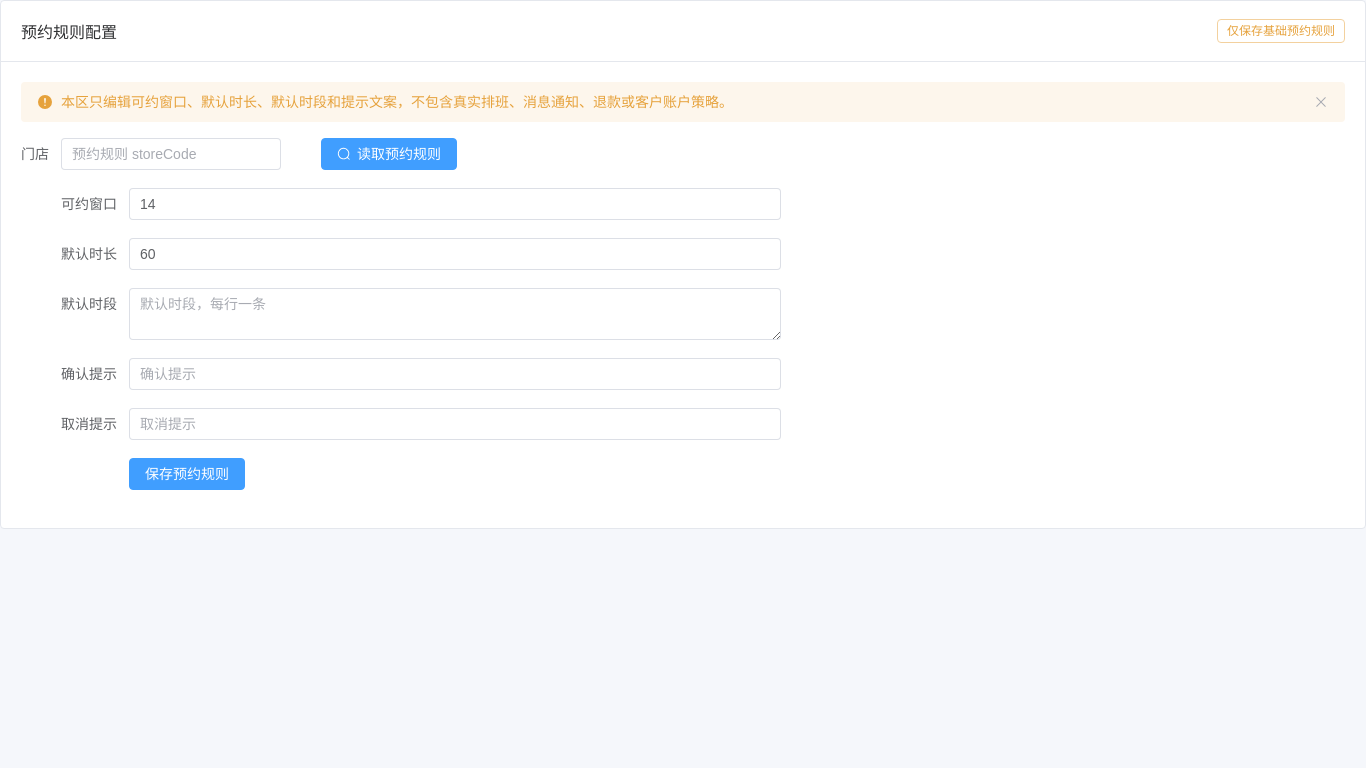
Test: StoreAppointmentRulesPanel › keeps appointment rules draft when save fails
Type "store-config-001" into the field with placeholder "预约规则 storeCode". click: (171, 154)
box: left=72, top=139, right=270, bottom=169
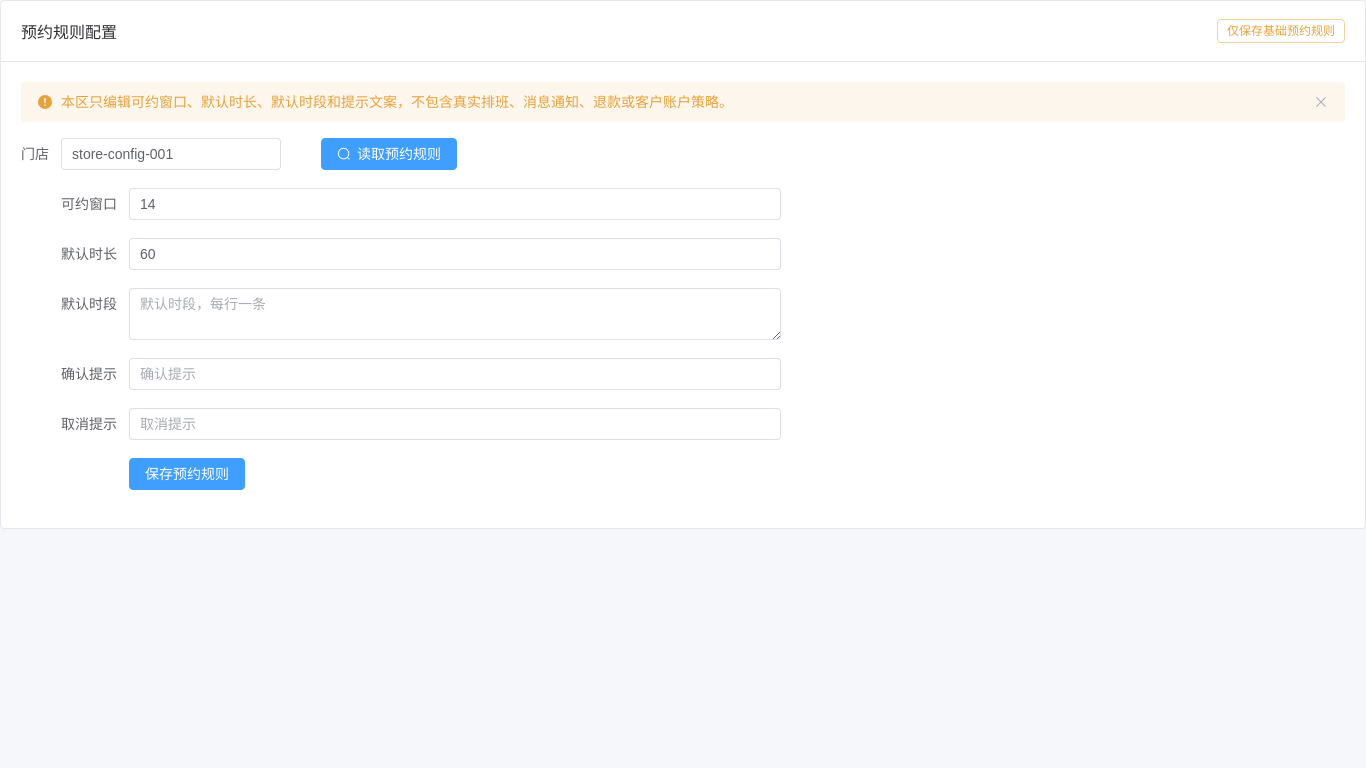
Click the button "读取预约规则". click: (389, 154)
box: left=321, top=138, right=457, bottom=170
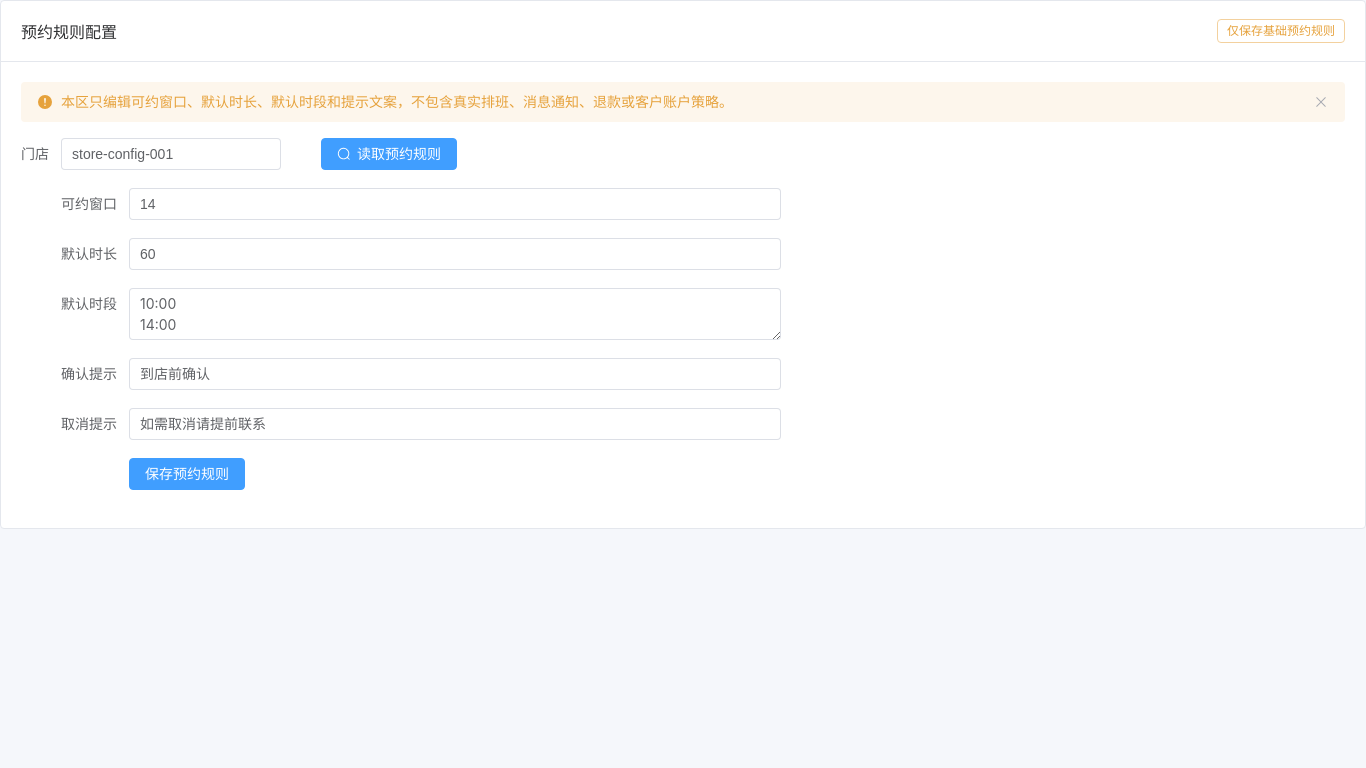
Replace the text in the field with placeholder "确认提示" with "失败后仍保留规则". click: (455, 374)
box: left=140, top=359, right=770, bottom=389
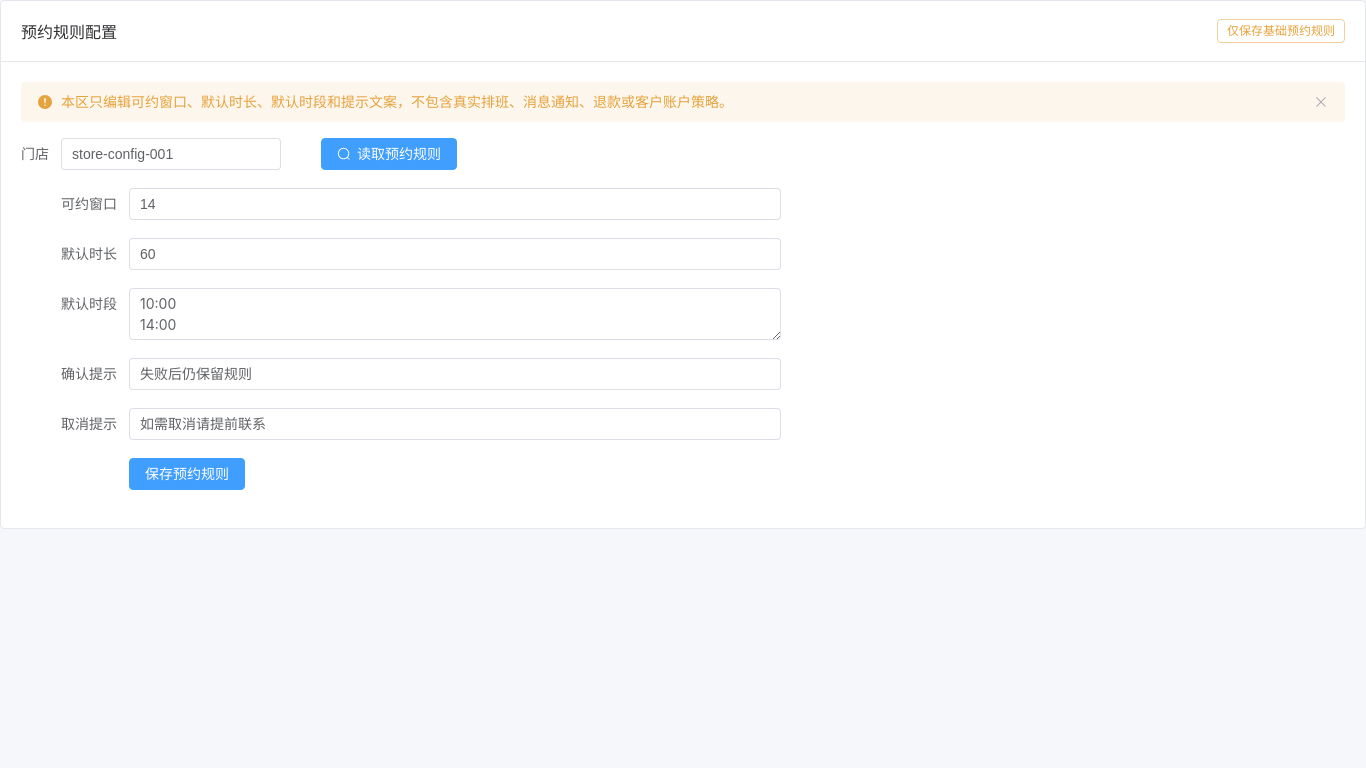
Click the button "保存预约规则". click: (187, 474)
box: left=129, top=458, right=245, bottom=490
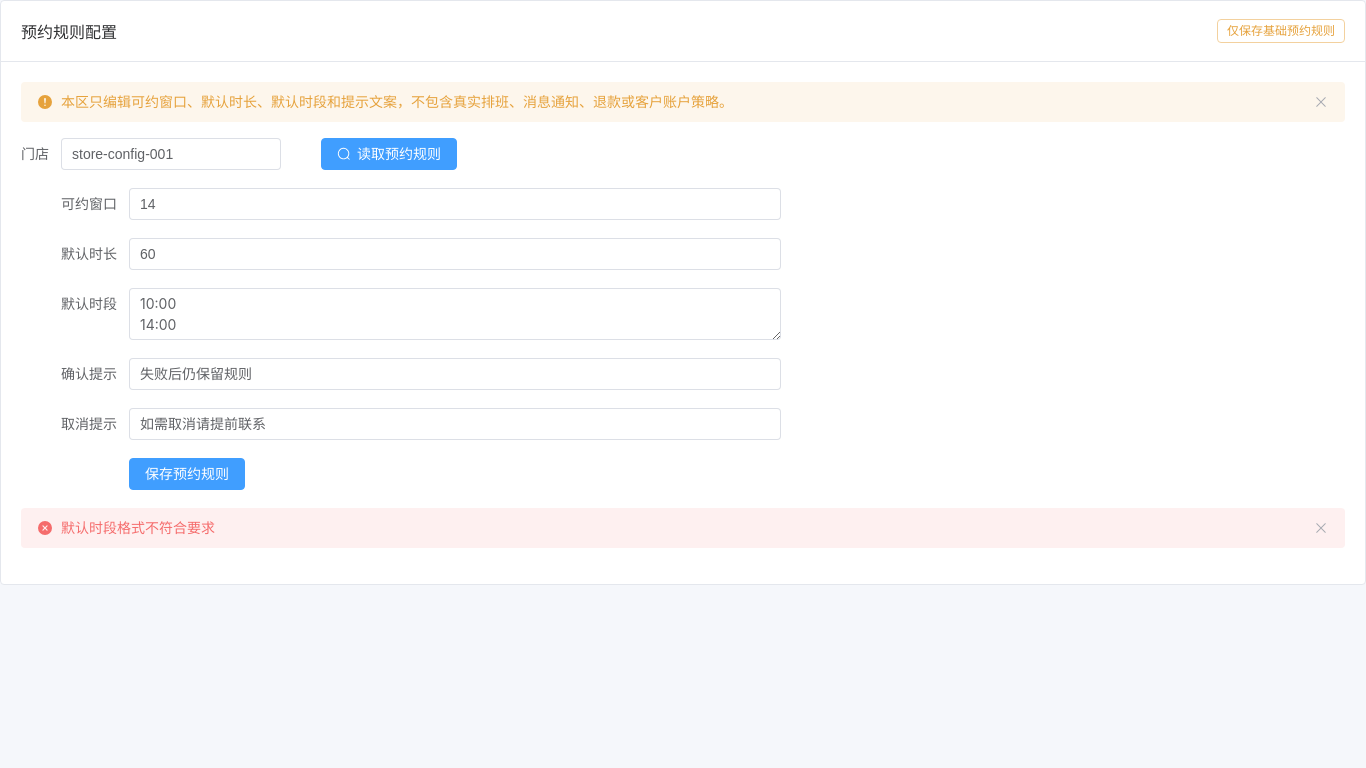
Check: the text "默认时段格式不符合要求" is shown, box left=61, top=516, right=215, bottom=540
